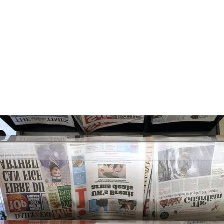news_paper: (73, 140, 151, 223), (0, 140, 75, 224), (148, 141, 223, 222), (72, 114, 148, 135), (8, 113, 75, 128), (149, 113, 218, 126)
